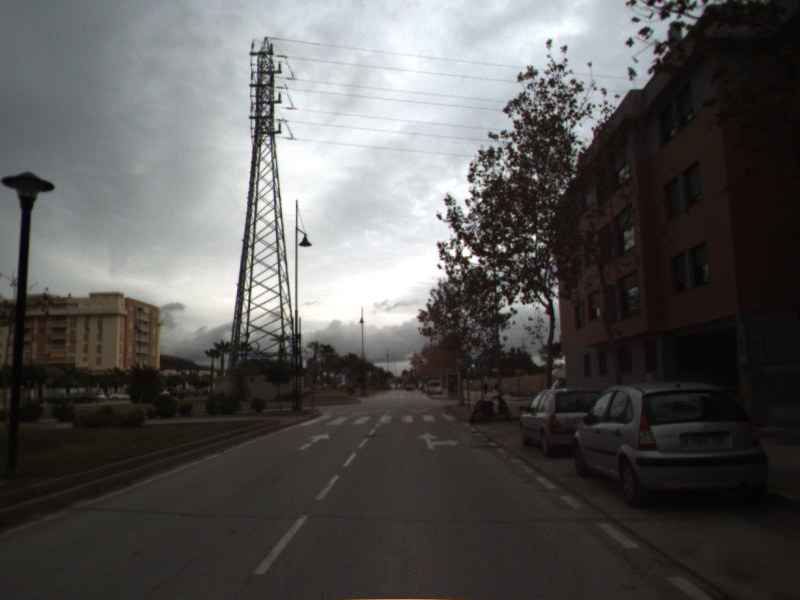STRAIGHT: (296, 430, 331, 452)
STRAIGHT_RIGHT: (414, 430, 461, 451)
